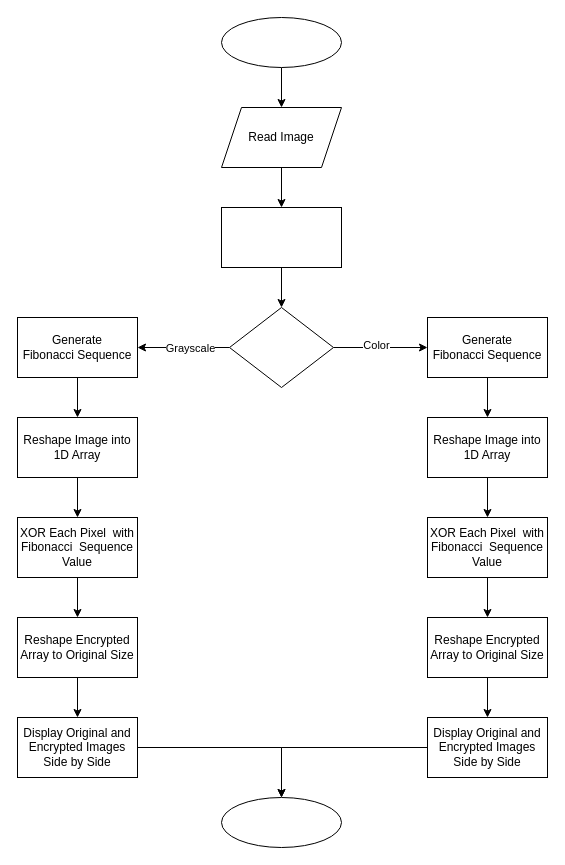
Image size: 565x865. Some labels were removed from this diagram. The shapes that lost their labels are listed below. From the top down, each one's centre as x and y in pixels, then its label:
At point 281,42: "Start".
At point 281,237: "Encrypt Image".
At point 281,347: "Check Color/Gray".
At point 281,822: "End encryptImage".
